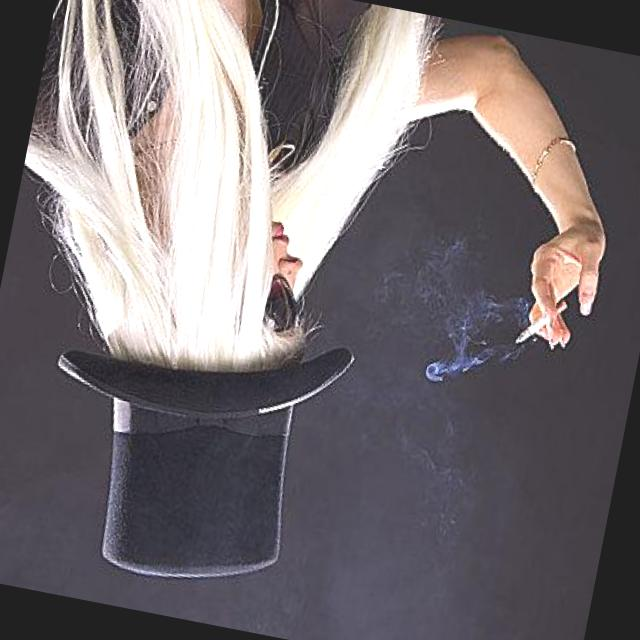smoke: (511, 289, 572, 356)
